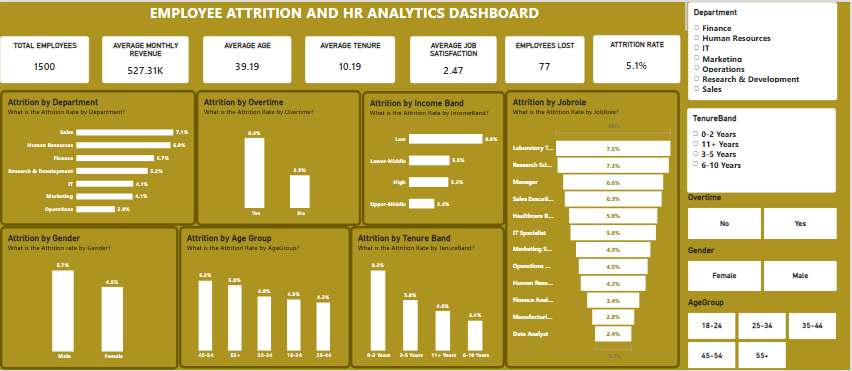

The page's visual inventory and layout, read from the dashboard file:
{"tool":"powerbi","page":{"name":"DASHBOARD","canvas":[2500,1080],"ordinal":0},"visuals":[{"type":"card","title":"TOTAL EMPLOYEES","fields":{"Values":["All measures.Total Employees"]},"box":[0,99.7,262.5,139.1],"z":0},{"type":"card","title":"AVERAGE MONTHLY REVENUE","fields":{"Values":["All measures.Average monthly incomee"]},"box":[299.2,99.7,254.6,139.1],"z":1000},{"type":"card","title":"AVERAGE TENURE","fields":{"Values":["All measures.Average Tenure"]},"box":[897.6,99.7,265.1,139.1],"z":2000},{"type":"card","title":"AVERAGE AGE","fields":{"Values":["All measures.Average Age"]},"box":[598.4,99.7,259.8,139.1],"z":3000},{"type":"card","title":"AVERAGE JOB SATISFACTION","fields":{"Values":["All measures.Average Job Satisfaction"]},"box":[1204.7,99.7,254.6,139.1],"z":4000},{"type":"card","title":"ATTRITION RATE","fields":{"Values":["All measures.Attrition Rate"]},"box":[1742.8,97.1,257.2,141.7],"z":5000},{"type":"card","title":"EMPLOYEES LOST","fields":{"Values":["All measures.Employee lost"]},"box":[1485.6,99.7,233.6,139.1],"z":6000},{"type":"textbox","box":[10.6,0,2010.6,97.9],"z":7000},{"type":"clusteredBarChart","title":"Attrition by Department","fields":{"Y":["All measures.Attrition Rate"],"Category":["HR_Data.Department"]},"box":[0,259.8,577.4,399],"z":8000},{"type":"funnel","title":"Attrition by Jobrole","fields":{"Category":["HR_Data.JobRole"],"Y":["All measures.Attrition Rate"]},"box":[1485.6,259.8,514.4,818.9],"z":9000},{"type":"clusteredColumnChart","title":"Attrition by Overtime","fields":{"Y":["All measures.Attrition Rate"],"Category":["HR_Data.Overtime"]},"box":[577.8,258.3,486.1,400],"z":10000},{"type":"clusteredColumnChart","title":"Attrition by Age Group","fields":{"Y":["All measures.Attrition Rate"],"Category":["HR_Data.AgeGroup"]},"box":[525,658.3,505.6,419.4],"z":11000},{"type":"clusteredBarChart","title":"Attrition by Income Band","fields":{"Y":["All measures.Attrition Rate"],"Category":["HR_Data.IncomeBand"]},"box":[1063.9,261.1,422.2,397.2],"z":12000},{"type":"clusteredColumnChart","title":"Attrition by Tenure Band","fields":{"Y":["All measures.Attrition Rate"],"Category":["HR_Data.TenureBand"]},"box":[1030.6,658.3,455.6,419.4],"z":13000},{"type":"clusteredColumnChart","title":"Attrition by Gender","fields":{"Y":["All measures.Attrition Rate"],"Category":["HR_Data.Gender"]},"box":[0,658.3,525,422.2],"z":14000},{"type":"listSlicer","fields":{"Values":["HR_Data.Department"]},"box":[2022.2,0,438.9,288.9],"z":15000},{"type":"advancedSlicerVisual","fields":{"Values":["HR_Data.Overtime"]},"box":[2022.2,561.1,438.9,136.1],"z":16000},{"type":"advancedSlicerVisual","fields":{"Values":["HR_Data.Gender"]},"box":[2022.2,716.7,438.9,133.3],"z":17000},{"type":"advancedSlicerVisual","fields":{"Values":["HR_Data.AgeGroup"]},"box":[2022.2,869.4,438.9,208.3],"z":18000},{"type":"listSlicer","fields":{"Values":["HR_Data.TenureBand"]},"box":[2021.1,310.5,438.3,248.9],"z":19000}]}

Visuals, with their boxes in screenshot pixels (x1, y1, x2, y2), scaled from the page's 2500x1080 canvas onto the 852x371 screenshot:
"TOTAL EMPLOYEES" card: 0/34/89/82
"AVERAGE MONTHLY REVENUE" card: 102/34/189/82
"AVERAGE TENURE" card: 306/34/396/82
"AVERAGE AGE" card: 204/34/292/82
"AVERAGE JOB SATISFACTION" card: 411/34/497/82
"ATTRITION RATE" card: 594/33/682/82
"EMPLOYEES LOST" card: 506/34/586/82
textbox: 4/0/689/34
"Attrition by Department" clusteredBarChart: 0/89/197/226
"Attrition by Jobrole" funnel: 506/89/682/370
"Attrition by Overtime" clusteredColumnChart: 197/89/363/226
"Attrition by Age Group" clusteredColumnChart: 179/226/351/370
"Attrition by Income Band" clusteredBarChart: 363/90/506/226
"Attrition by Tenure Band" clusteredColumnChart: 351/226/506/370
"Attrition by Gender" clusteredColumnChart: 0/226/179/370
listSlicer - HR_Data.Department: 689/0/839/99
advancedSlicerVisual - HR_Data.Overtime: 689/193/839/240
advancedSlicerVisual - HR_Data.Gender: 689/246/839/292
advancedSlicerVisual - HR_Data.AgeGroup: 689/299/839/370
listSlicer - HR_Data.TenureBand: 689/107/838/192
